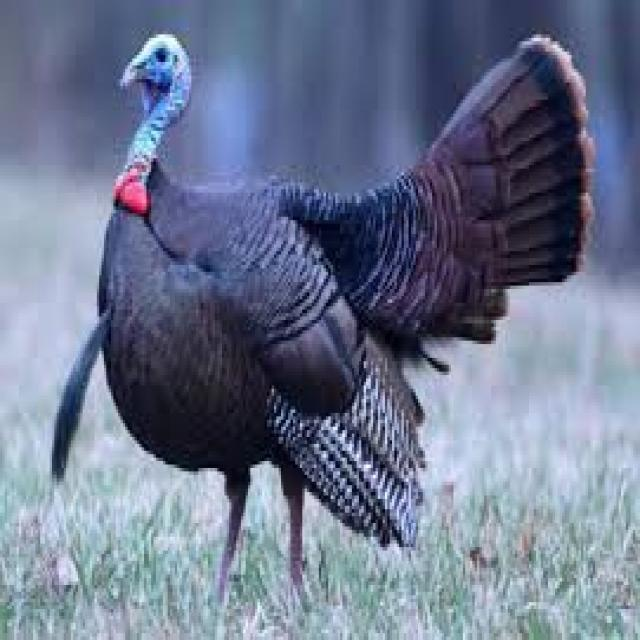Turkey: (45, 16, 597, 612)
